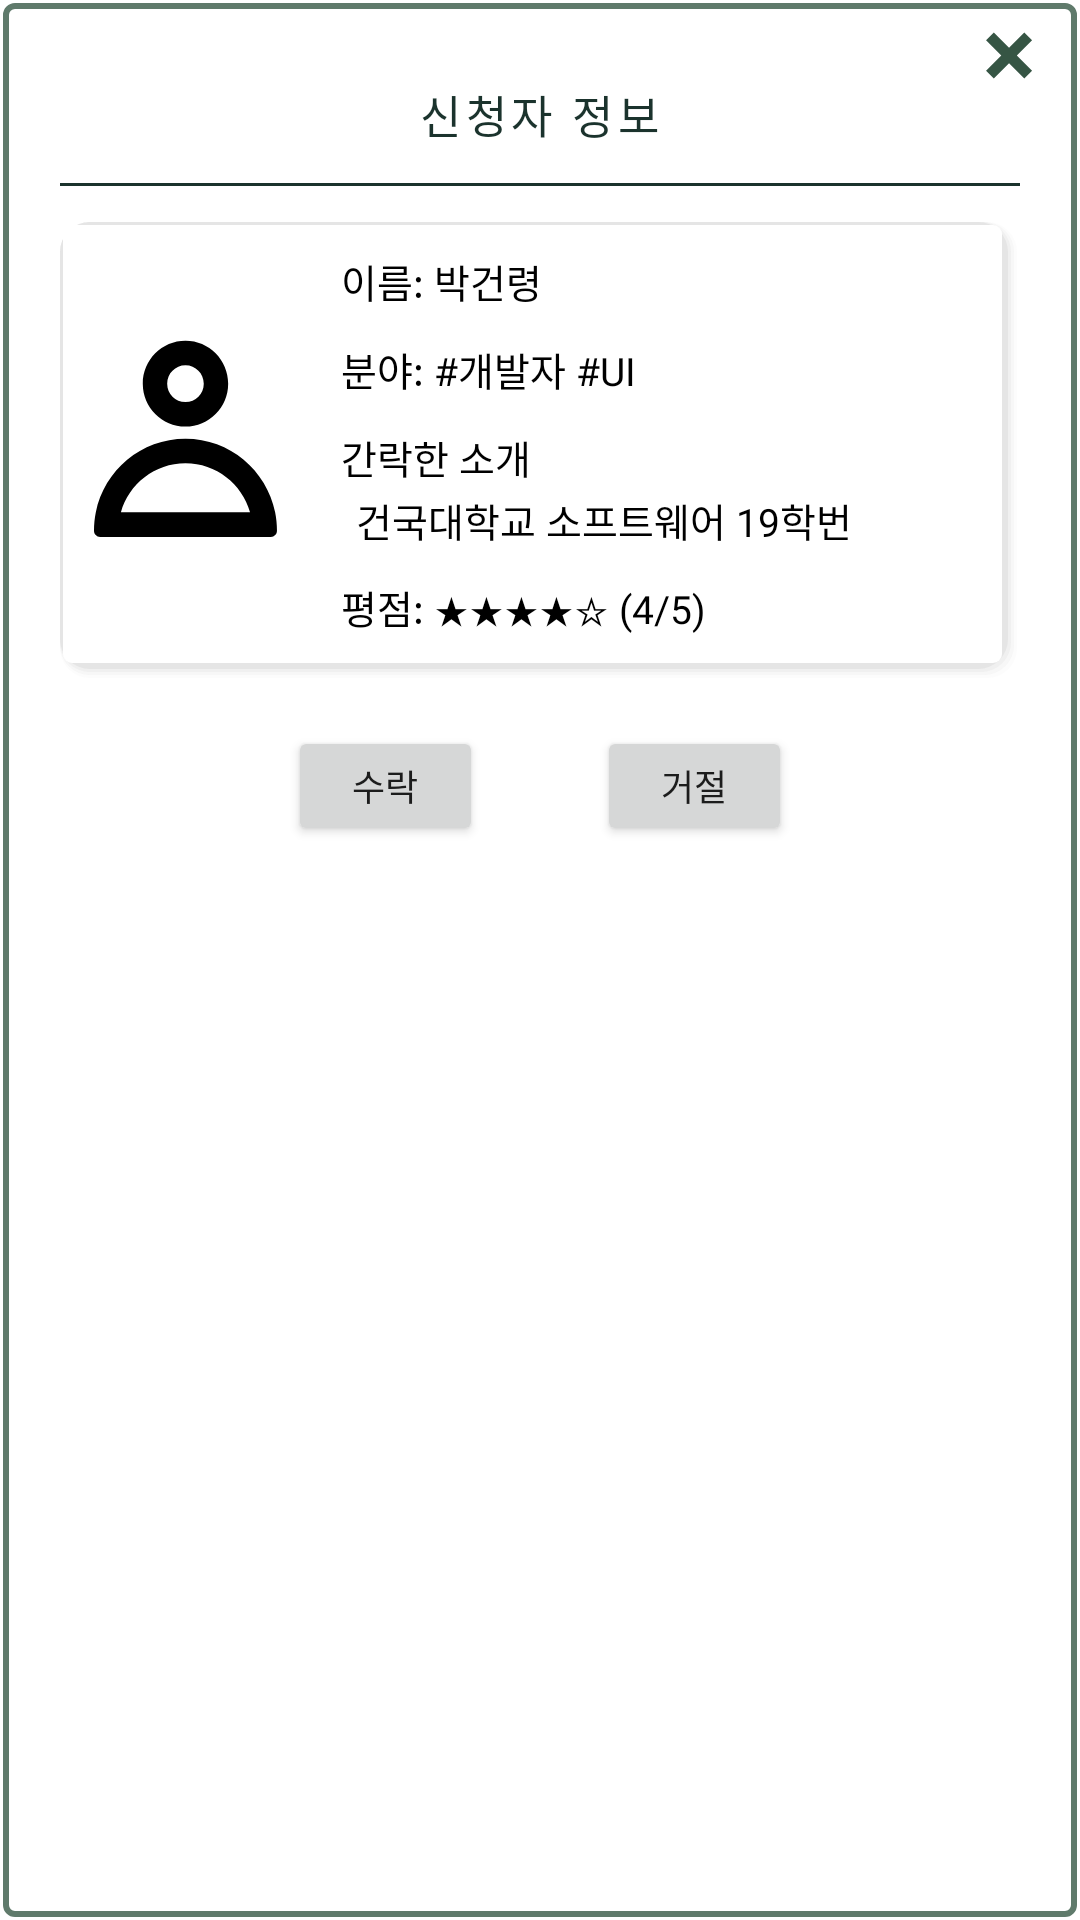

Screen size 1080w x 1920h. Icon name, then its center in pixels as (x,y):
cancel: (1009,55)
profile: (185,438)
